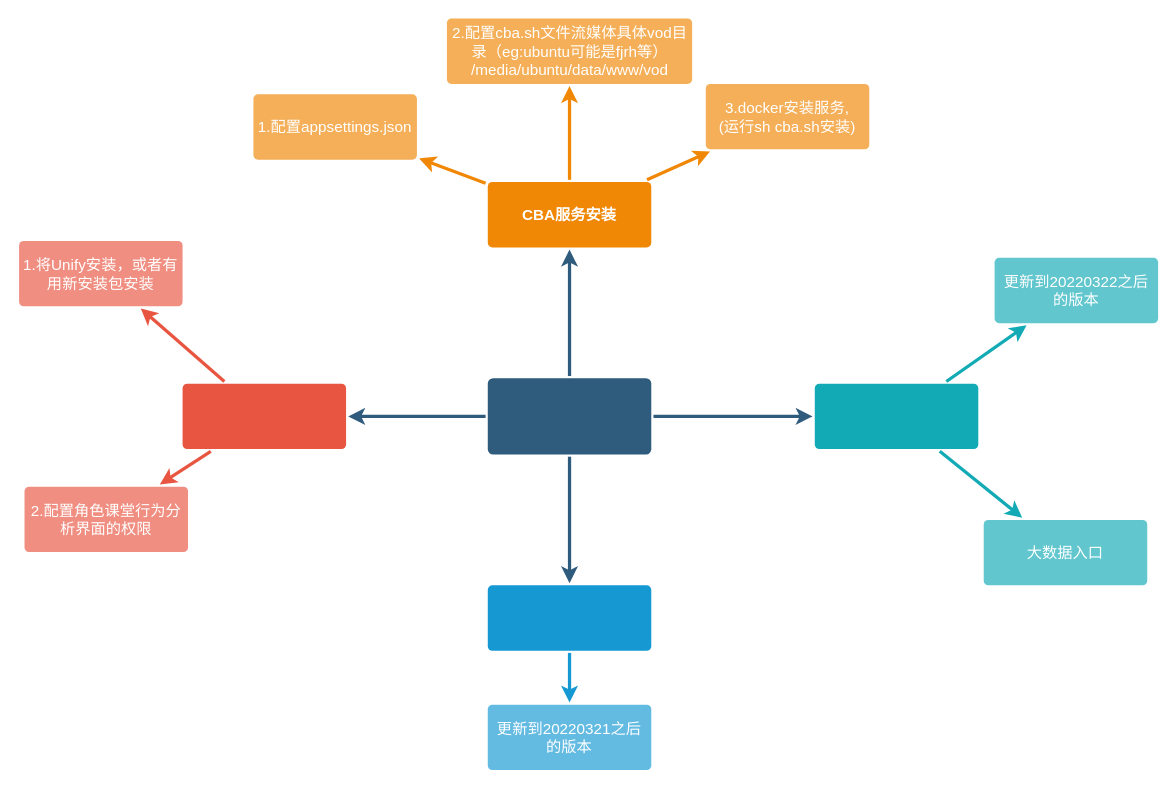
Image size: 1176x789. Some labels were removed from this diagram. Each missing label, with the centre of its shape:
V4主服务更新: the point at 569,617
更新BigData: the point at 896,416
更新Unify: the point at 264,416
课堂行为分析平台: the point at 569,416
